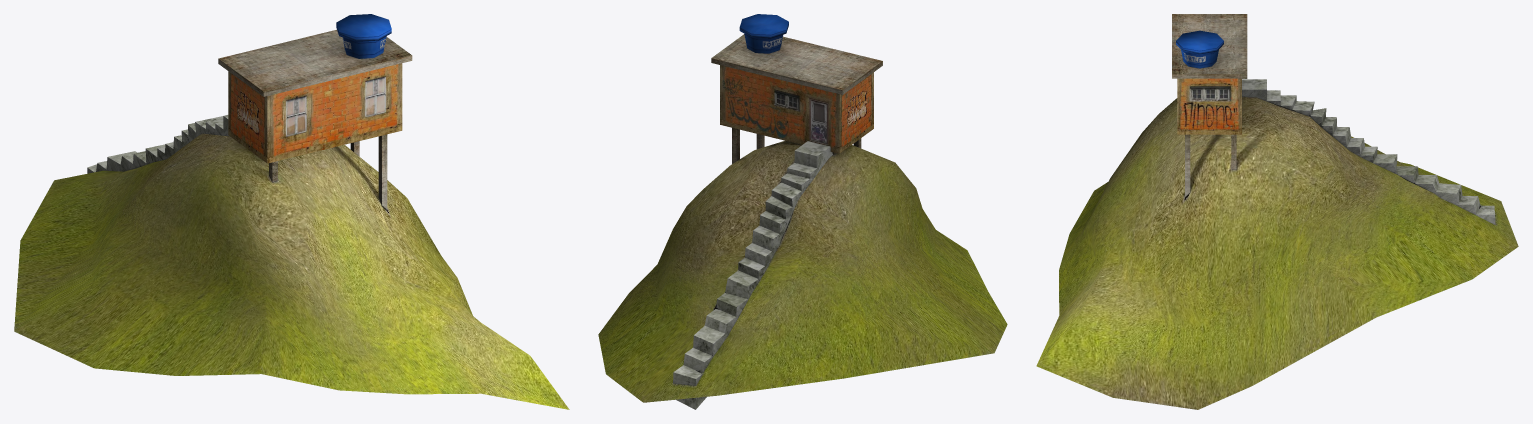
The model's file is casa.glb.
The picture shows the model from 3 angles, left to right: view 1: azimuth 30°, elevation 25°; view 2: azimuth 150°, elevation 25°; view 3: azimuth 270°, elevation 25°; orthographic projection. The views are drawn at different scales.
Visible parts, largest first — view 1: Morro, Casa, Escada, Caixad`Agua; view 2: Morro, Casa, Escada, Caixad`Agua; view 3: Morro, Casa, Escada, Caixad`Agua.
Boxes of the visible parts, x1=… form: Morro: x1=14, y1=133, x2=569, y2=409; Casa: x1=218, y1=29, x2=412, y2=210; Escada: x1=87, y1=115, x2=229, y2=173; Caixad`Agua: x1=336, y1=14, x2=391, y2=58; Morro: x1=598, y1=140, x2=1007, y2=402; Casa: x1=711, y1=34, x2=882, y2=163; Escada: x1=673, y1=141, x2=832, y2=409; Caixad`Agua: x1=739, y1=14, x2=788, y2=53; Morro: x1=1036, y1=96, x2=1518, y2=409; Casa: x1=1172, y1=14, x2=1247, y2=197; Escada: x1=1242, y1=79, x2=1495, y2=224; Caixad`Agua: x1=1176, y1=30, x2=1223, y2=68.
Bounding box in the file's own units: 12.9 × 10.77 × 14.88.
4 materials, 4 textured.
